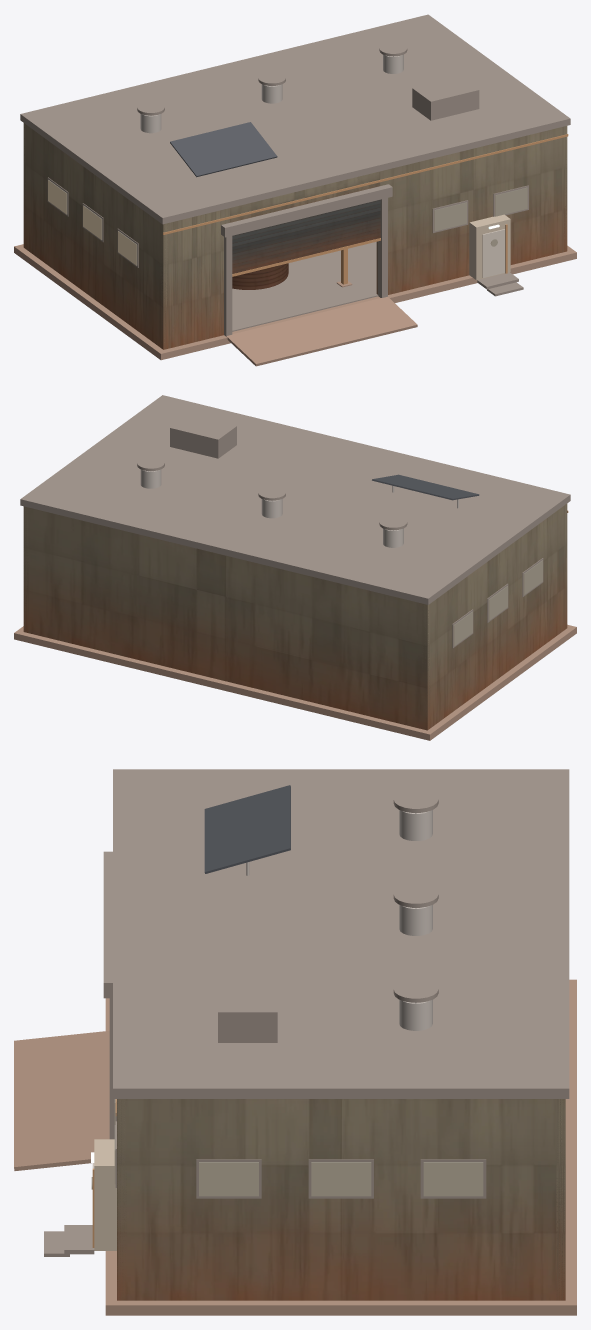
Rendered from I02_workshop_3d_printer.glb.
3 views of the same model, one above another, from view 1: azimuth 30°, elevation 25°; view 2: azimuth 150°, elevation 25°; view 3: azimuth 270°, elevation 25° (orthographic). The views are drawn at different scales.
Visible parts, largest first — view 1: floor, rear_wall, foundation, rollup_door_half_open, front_window, roof_vent, printed_part; view 2: rear_wall, floor, foundation, front_window, roof_vent; view 3: floor, rear_wall, foundation, front_window, roof_vent.
Boxes of the visible parts, box(x1,y1,x2,y2) form: floor: box(20, 14, 570, 336); rear_wall: box(23, 123, 568, 349); foundation: box(14, 244, 576, 366); rollup_door_half_open: box(232, 199, 380, 273); front_window: box(48, 180, 527, 265); roof_vent: box(140, 54, 403, 170); printed_part: box(232, 263, 288, 289); rear_wall: box(23, 503, 568, 730); floor: box(20, 395, 570, 648); foundation: box(14, 624, 576, 740); front_window: box(453, 560, 542, 646); roof_vent: box(140, 469, 458, 547); floor: box(44, 769, 569, 1256); rear_wall: box(92, 1099, 565, 1300); foundation: box(14, 979, 576, 1315); front_window: box(91, 1099, 483, 1196); roof_vent: box(246, 810, 432, 1030).
Bounding box in the file's own units: 20.6 × 7.7 × 15.05.
Materials: 10 (3 with a texture image).
